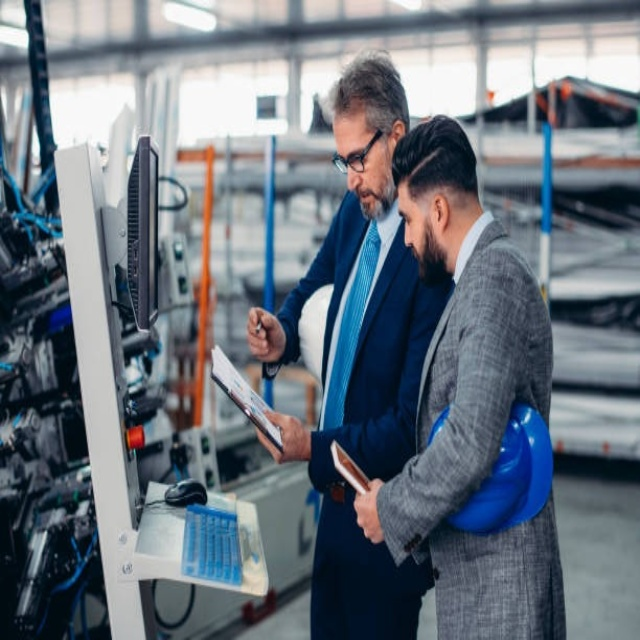Gafas: (333, 127, 387, 175)
Sin_guantes: (249, 406, 308, 466), (350, 478, 388, 546), (246, 306, 283, 362)
Sin_mascara: (405, 235, 430, 273), (357, 185, 378, 216)
